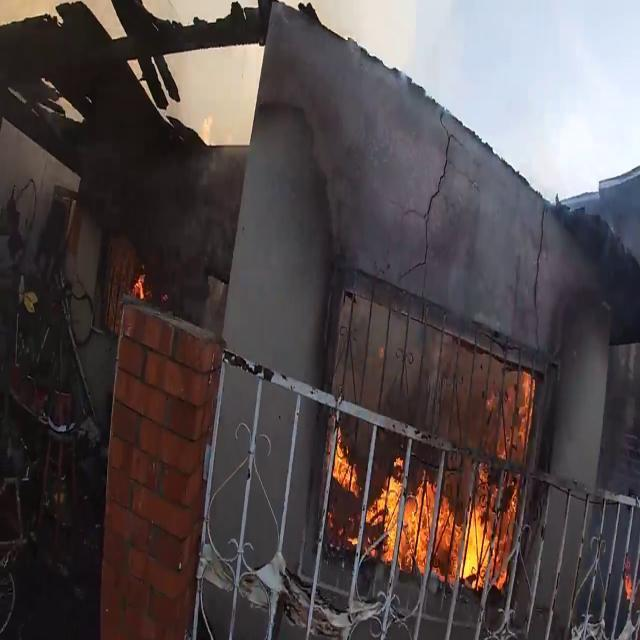Fire: (373, 443, 505, 585), (330, 422, 356, 500)
